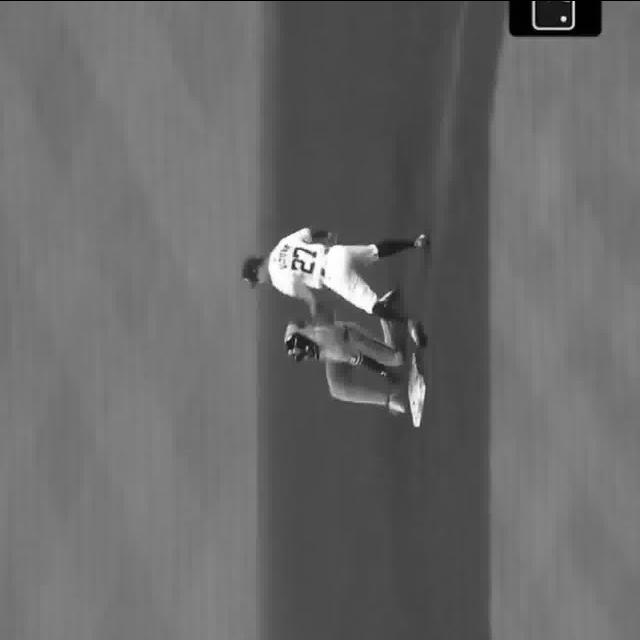base: (408, 346, 427, 428)
shoe: (386, 392, 412, 416), (408, 316, 424, 344), (414, 228, 430, 246)
